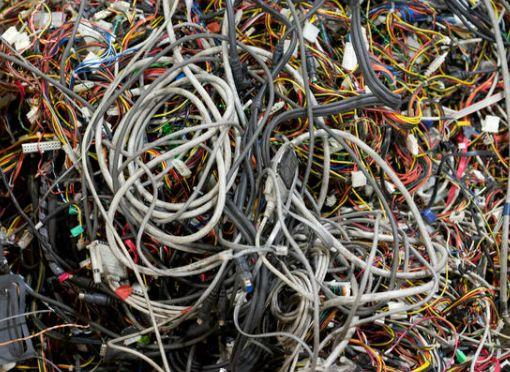electronic: (3, 2, 505, 367), (1, 3, 99, 60), (0, 274, 37, 367), (89, 241, 128, 288), (338, 23, 370, 72), (96, 0, 135, 23), (157, 124, 188, 150), (22, 140, 62, 154)
